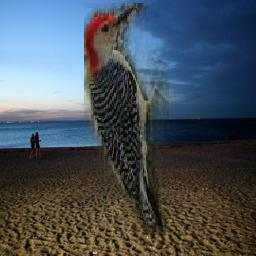Woodpecker: (85, 3, 170, 235)
